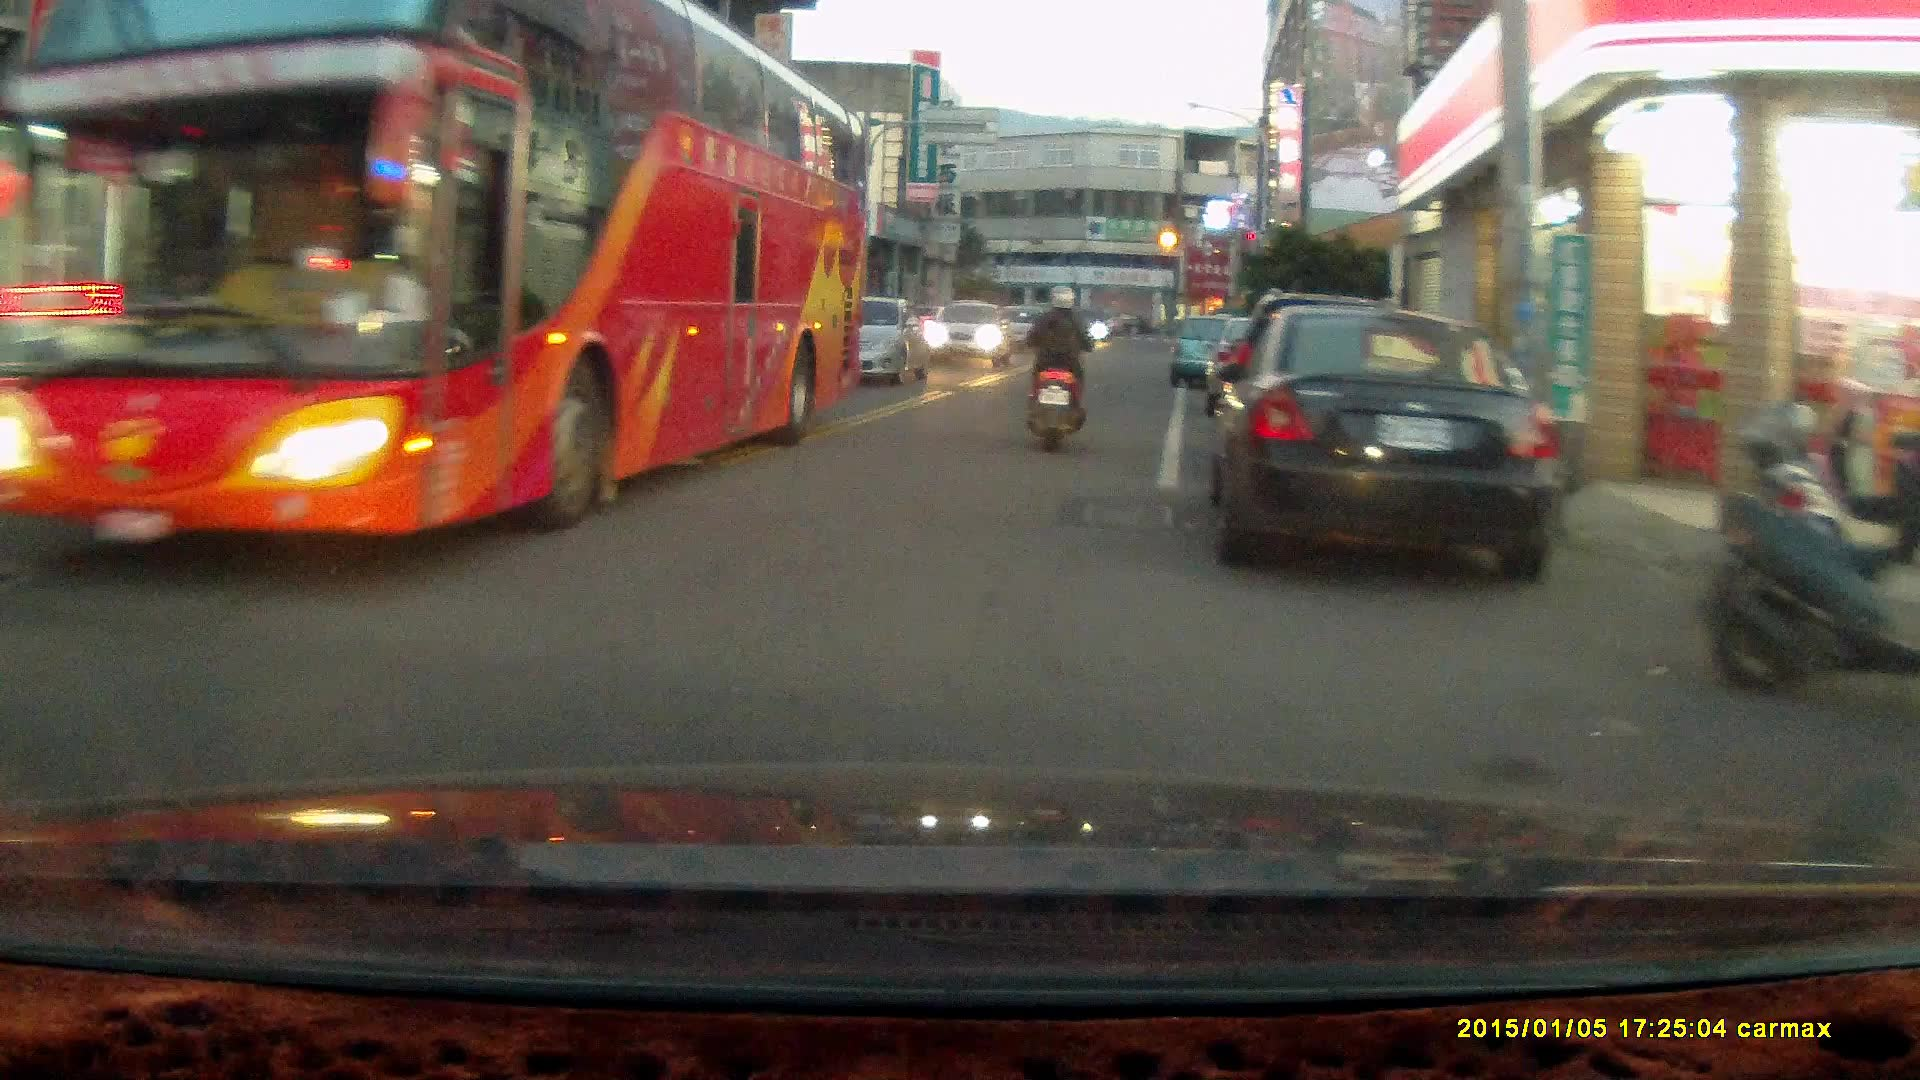rider: (1020, 283, 1094, 453)
vehicle: (32, 15, 871, 553), (1193, 301, 1561, 583), (809, 293, 923, 388), (1171, 316, 1251, 389), (923, 299, 1008, 364)
